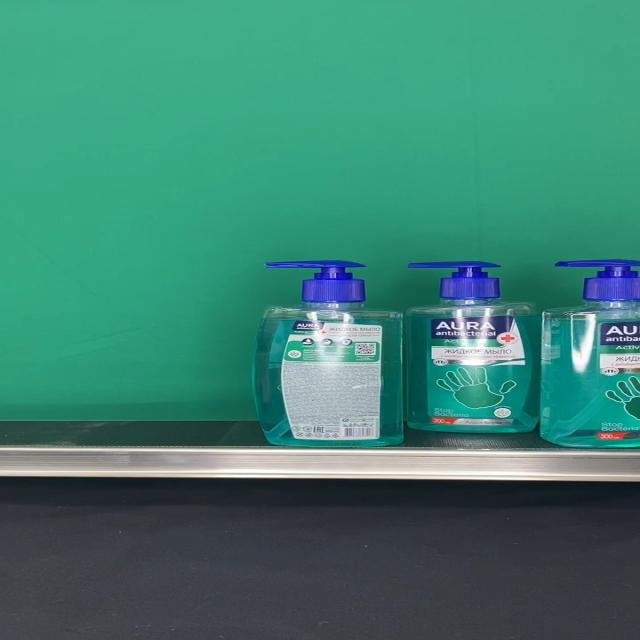Bottle: (251, 261, 403, 449), (404, 261, 542, 434)
Cap: (268, 261, 369, 305), (411, 261, 503, 301)
